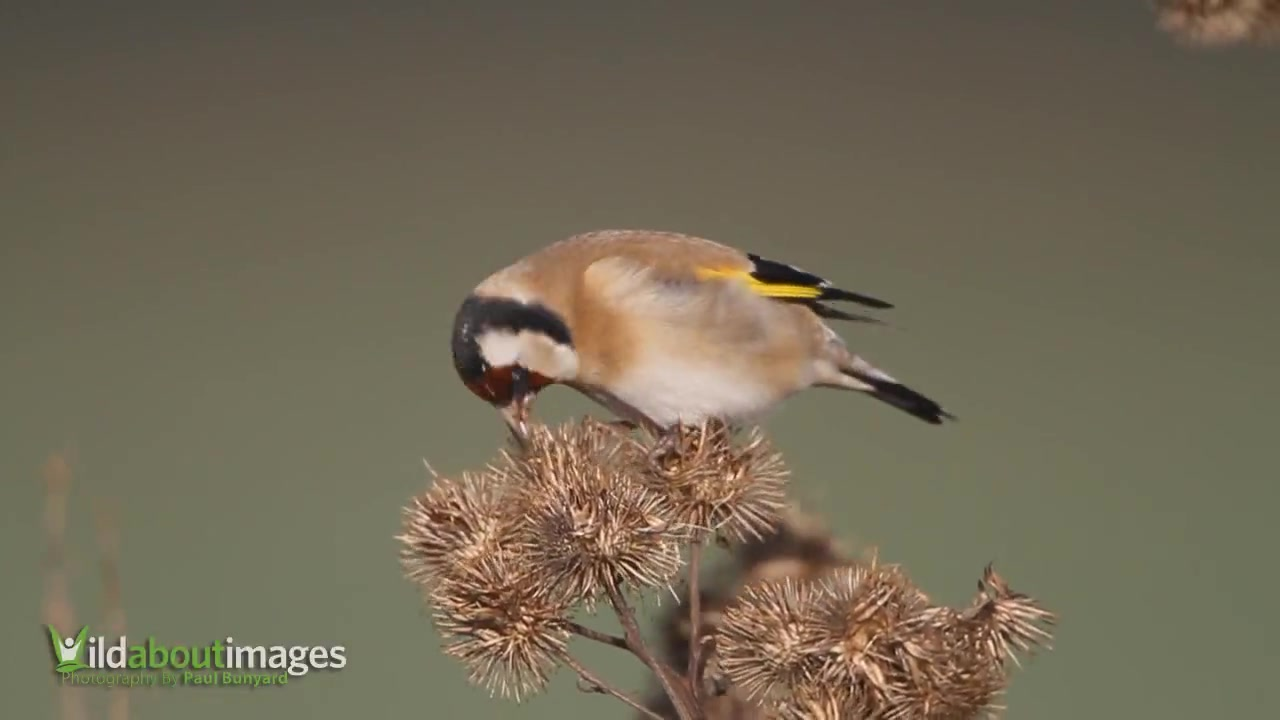bird: (451, 228, 960, 445)
